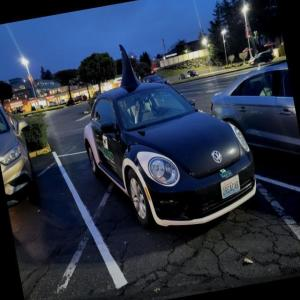Plate: (220, 173, 241, 199)
